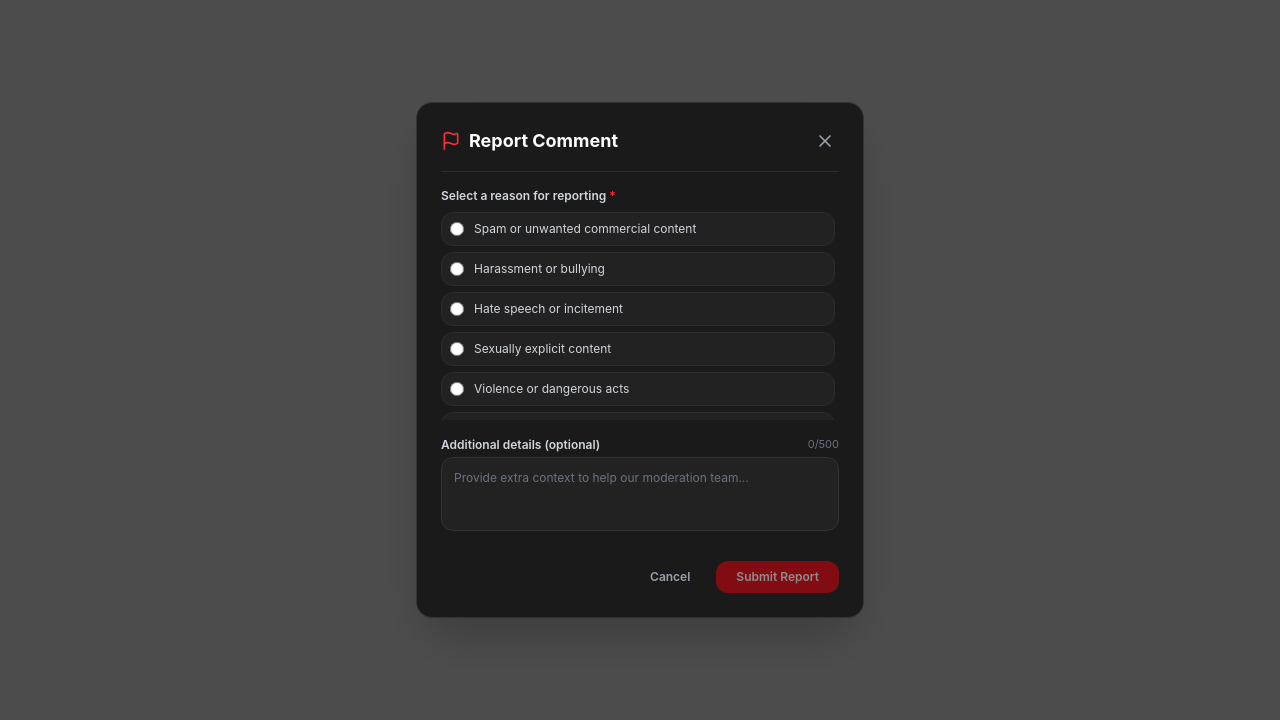
Scenario: Admin & Moderation UI (Task U4) › 2. User Reporting (ReportDialog) › handles duplicate open report (200 / 409) with friendly alert
Click the radio button labelled "Harassment or bullying" at (457, 269), box [450,262,464,276]
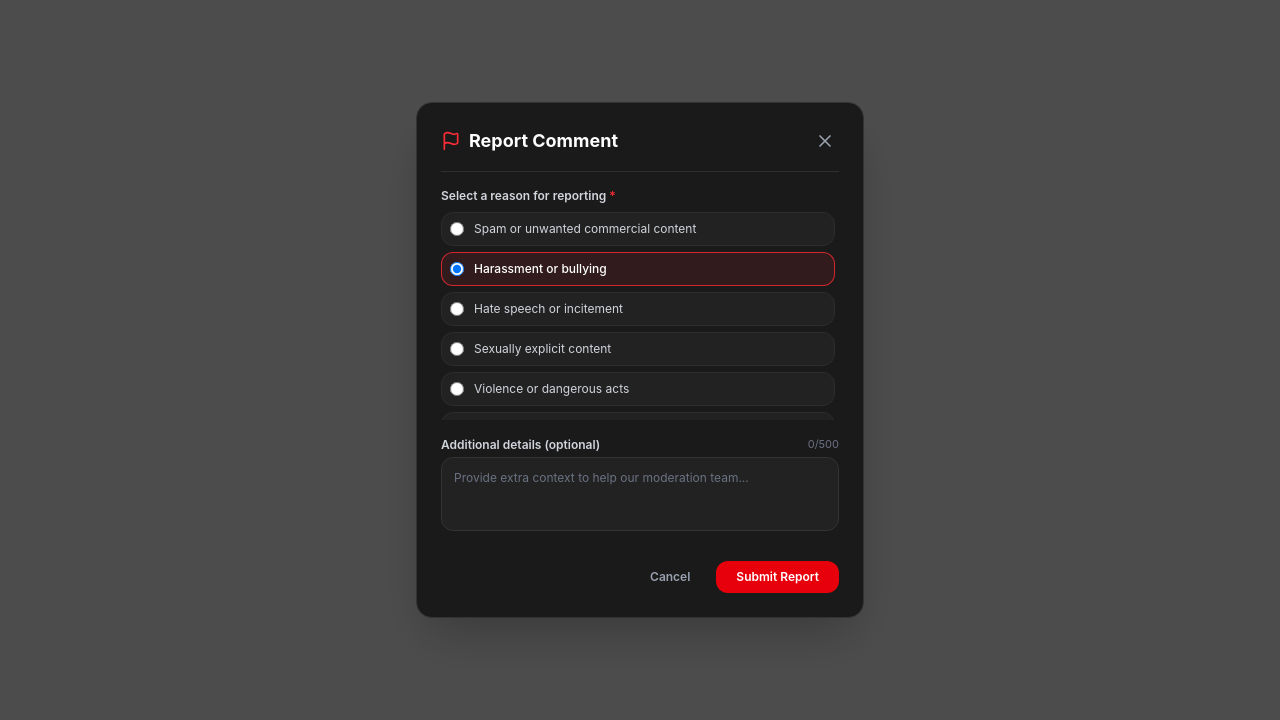
Click the button "Submit Report" at (778, 577), box [716,561,839,593]
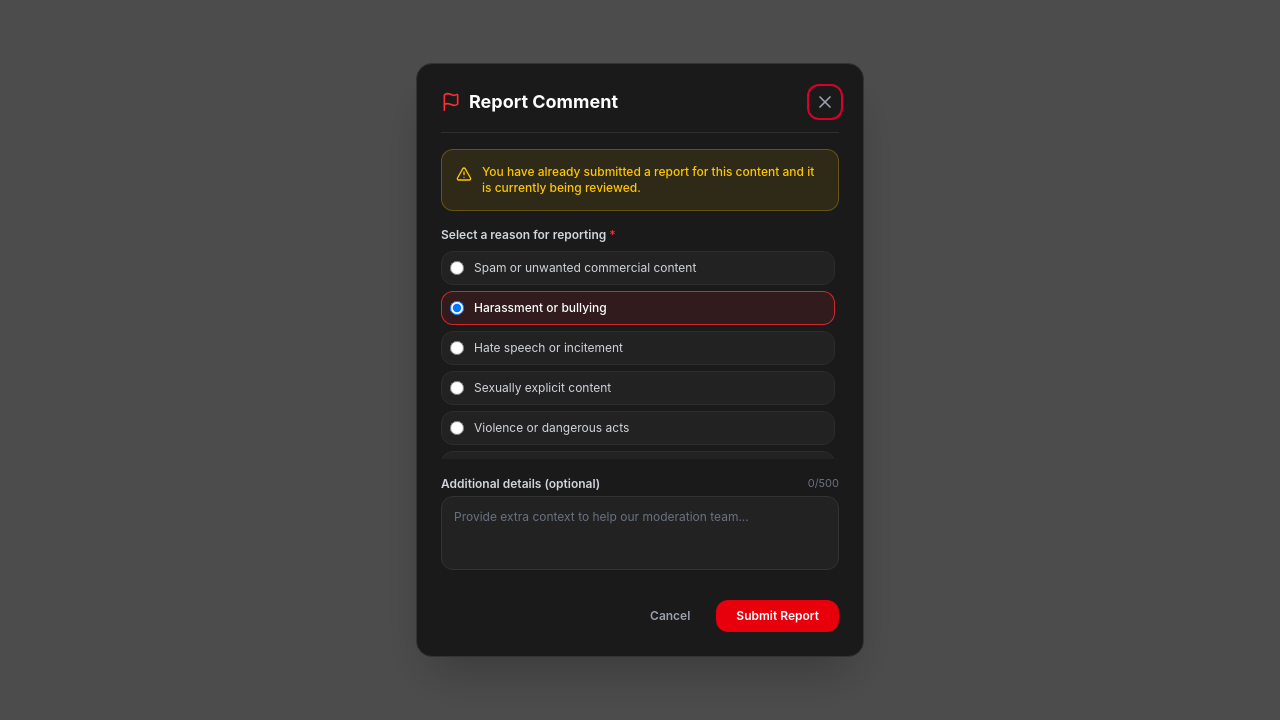
Result: the text "You have already submitted a report for this content and it is currently being reviewed." is shown at [482,164,814,195]
